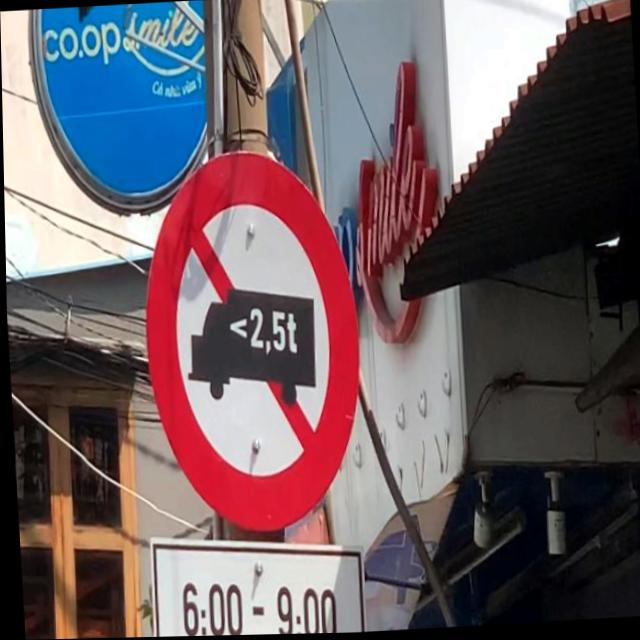Cam xe tai tren 2_5: (133, 146, 369, 545)
